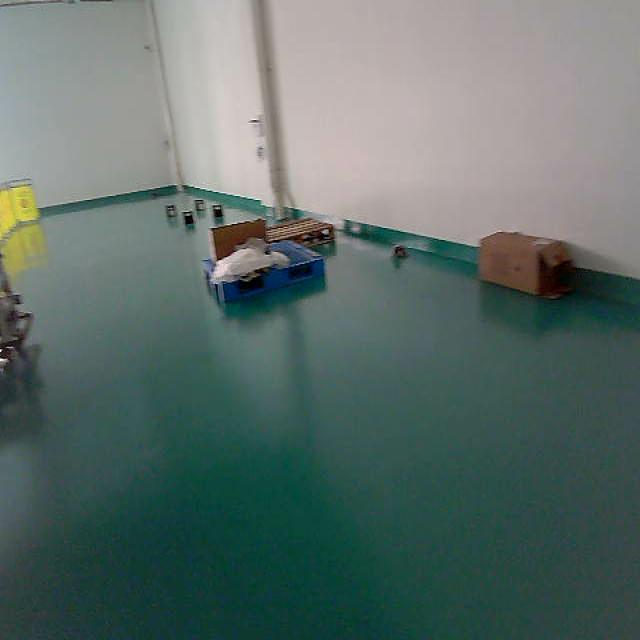euro: (264, 218, 336, 246)
